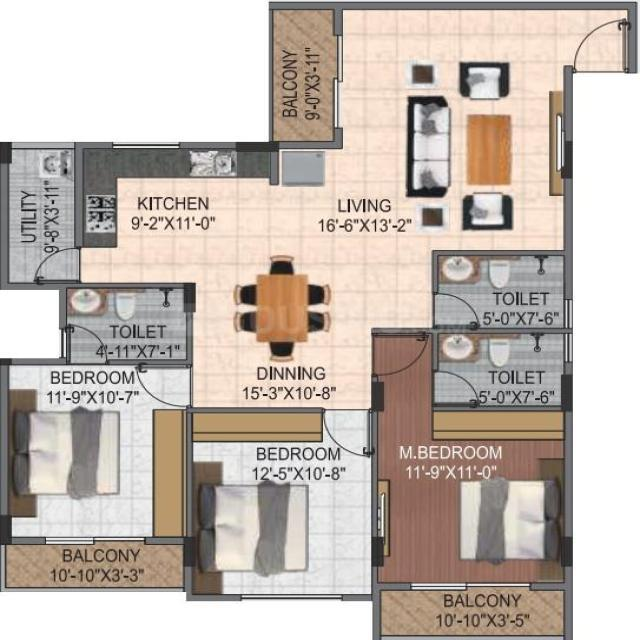Balcony-Sitout: (372, 586, 575, 638), (266, 4, 342, 142), (3, 541, 184, 587)
Bedroom: (186, 409, 377, 600), (1, 359, 198, 544)
Bedroom with Toilet: (368, 249, 575, 588)
Dining: (231, 255, 335, 364)
Kitchen: (71, 143, 274, 285)
Living: (332, 4, 571, 255)
Toilet: (433, 328, 575, 417), (438, 252, 573, 337), (55, 283, 193, 365)
Utility: (0, 145, 80, 289)
